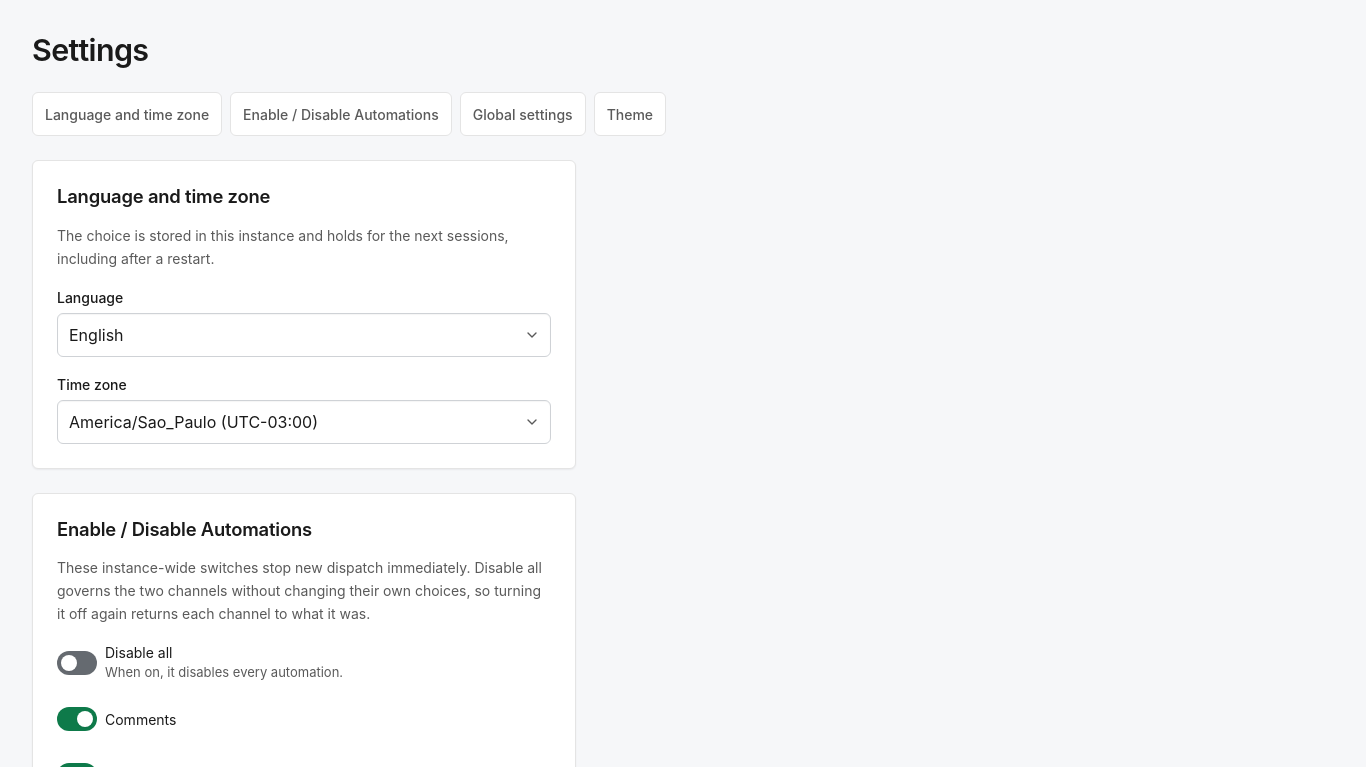
REQ-115: the one failure this screen has looks like a failure › says the preference was not stored and keeps the previous choice
Select "português (Brasil)" in the dropdown labelled "Language": (304, 335) [57,313,551,357]
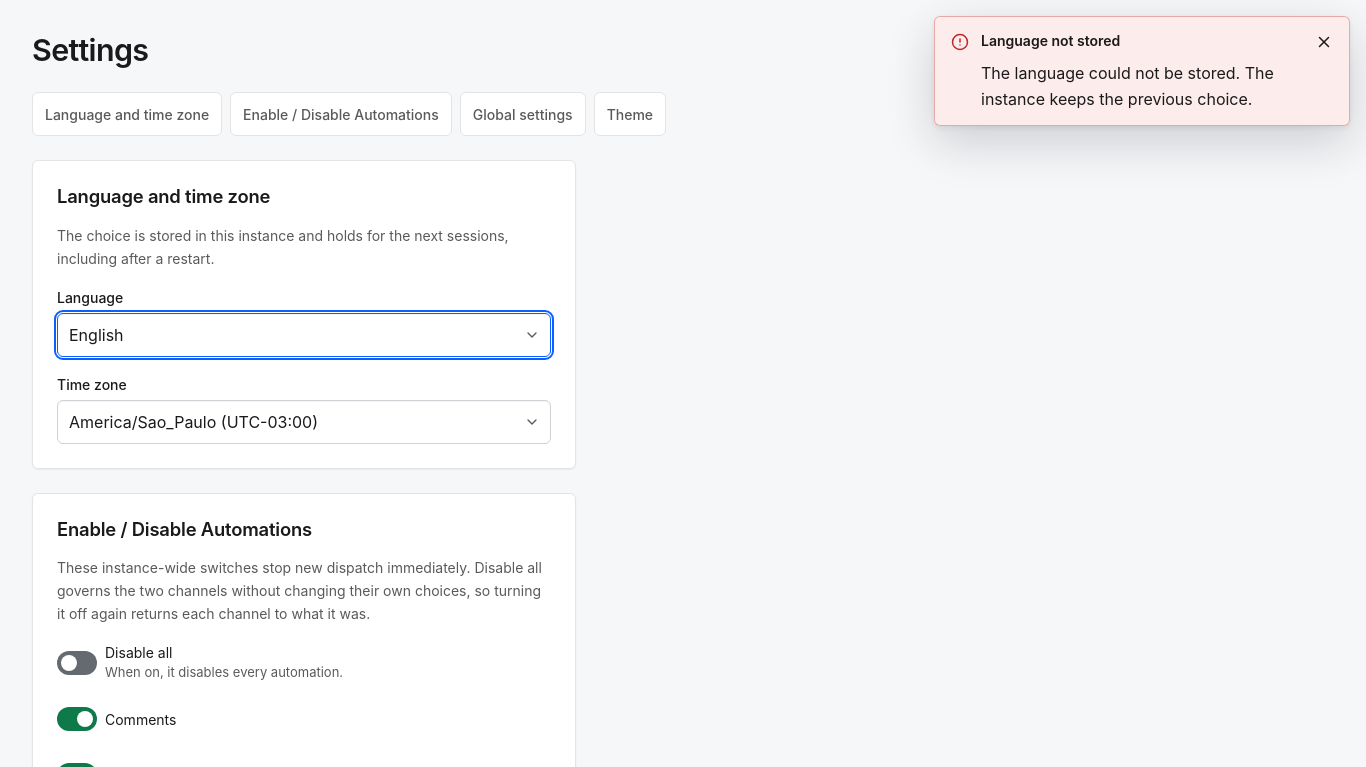
Expected: the heading "Settings" is shown, [32,32,148,68]
Now the message shows "Language not stored", box [981,32,1120,49]
Now the message shows "The language could not be stored. The instance keeps the previous choice.", box [981,63,1274,110]
